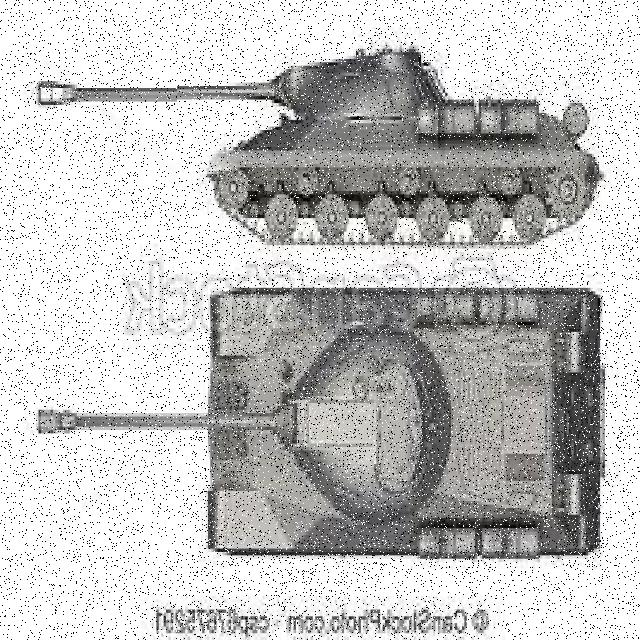MIL_MBT: (195, 270, 607, 584), (177, 40, 610, 255)
